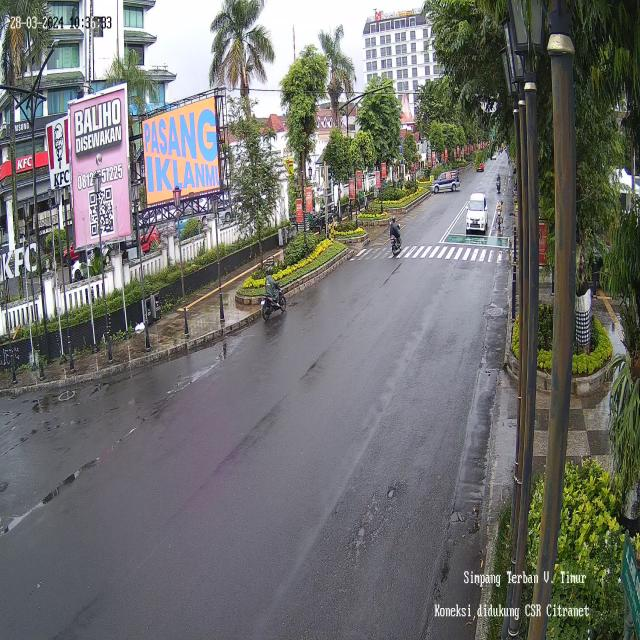car: (465, 187, 486, 239)
motorcycle: (260, 261, 286, 318), (429, 168, 460, 194), (388, 213, 403, 260), (495, 171, 501, 194)
